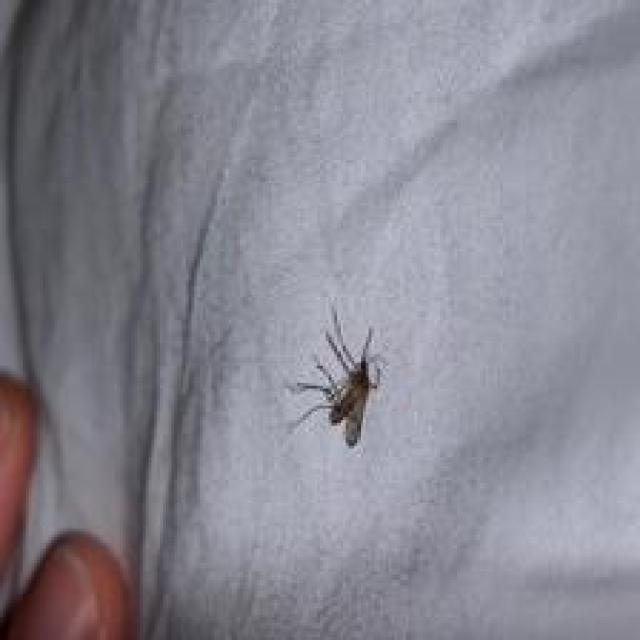Culex: (286, 301, 386, 450)
